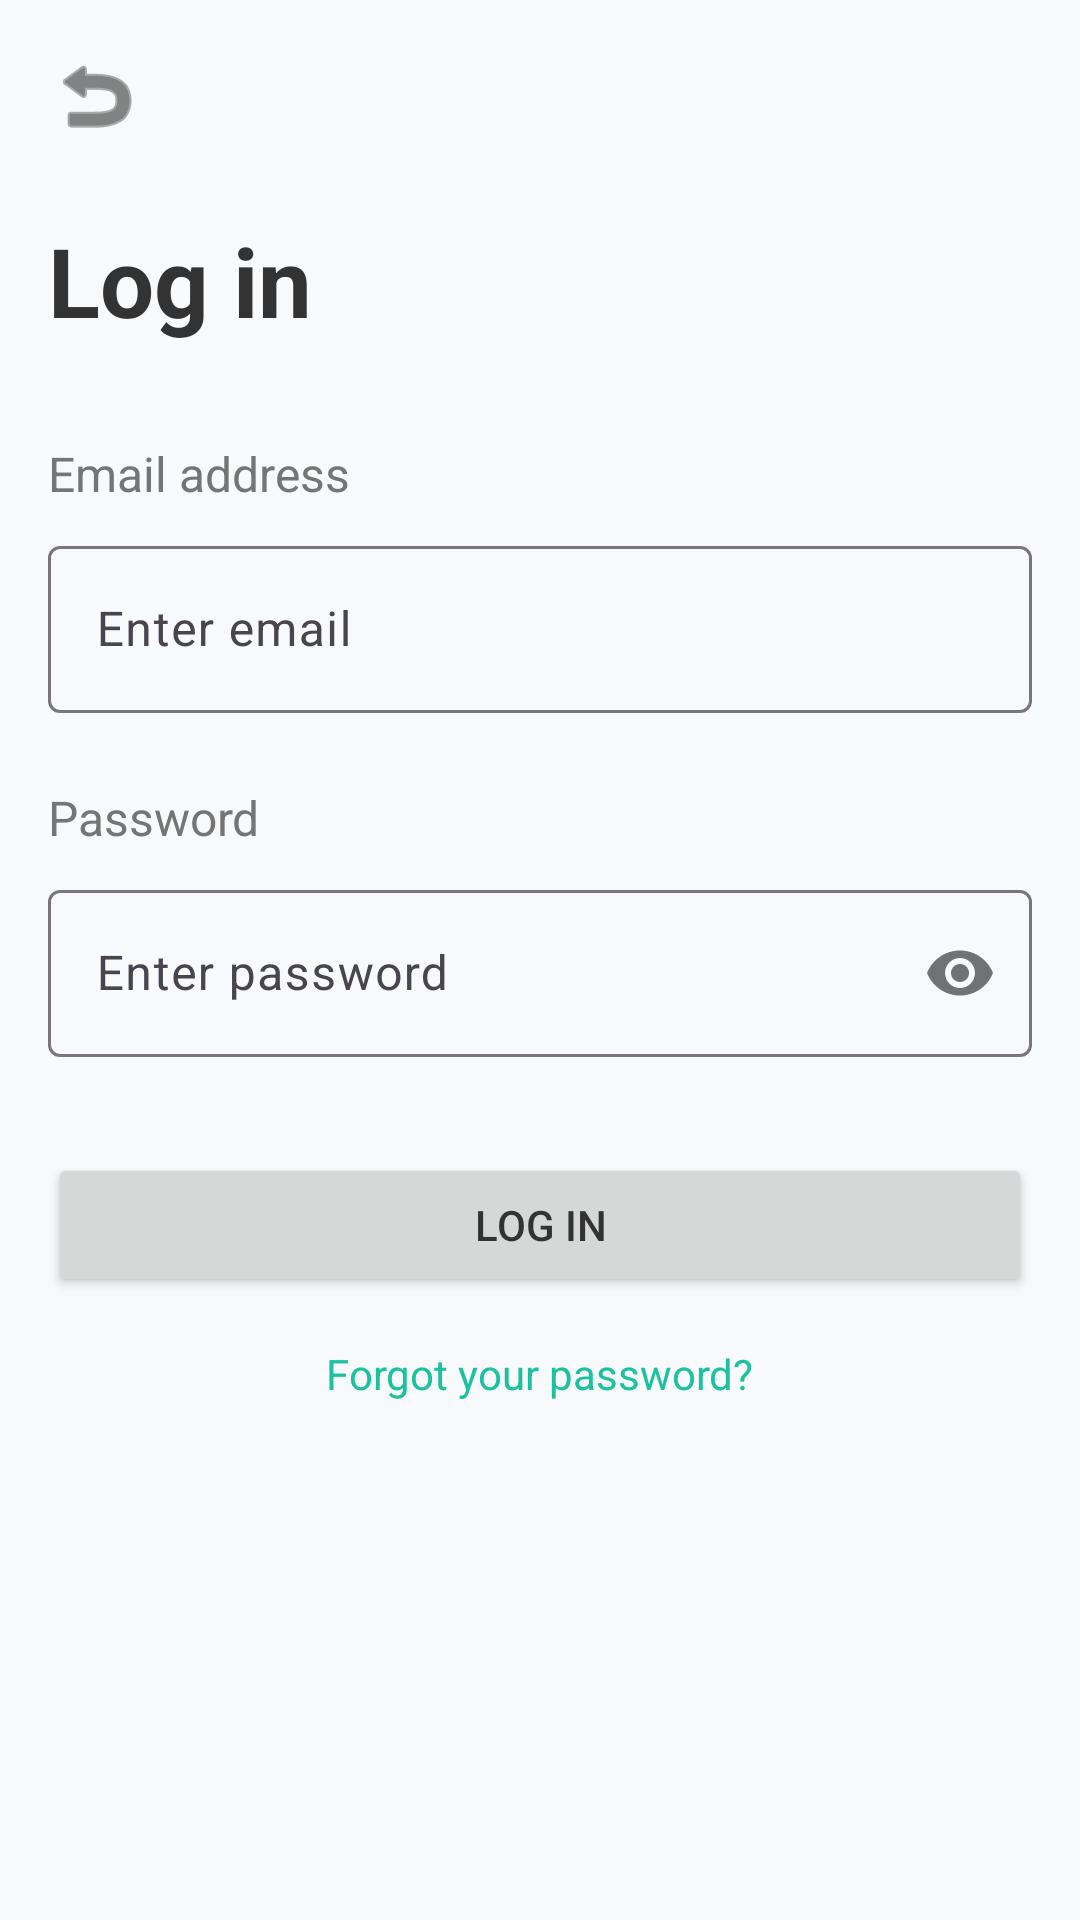

Named icons in this screenshot (1080*1920) and their centers, [x,y]:
revert: [97,96]
